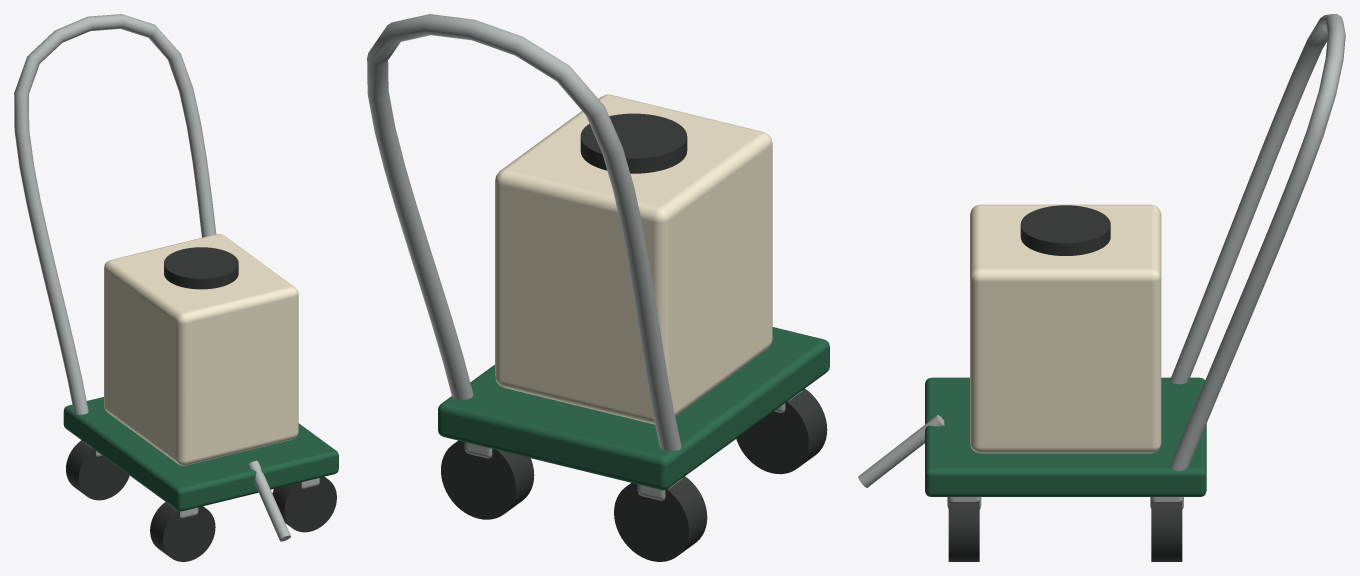
The model's file is cricket-ground-and-pavilion-ground-marking-trolley-7c304b69__31339.glb.
3 views of the same model, side by side, from view 1: azimuth 30°, elevation 25°; view 2: azimuth 150°, elevation 25°; view 3: azimuth 270°, elevation 25° (orthographic). The views are drawn at different scales.
Visible parts, largest first — view 1: ground-marking-trolley; view 2: ground-marking-trolley; view 3: ground-marking-trolley.
Boxes of the visible parts, <box> form: ground-marking-trolley: <box>14,14,338,561</box>; ground-marking-trolley: <box>367,14,829,561</box>; ground-marking-trolley: <box>858,14,1345,561</box>.
Bounding box in the file's own units: 0.4452 × 0.9704 × 0.8658.
